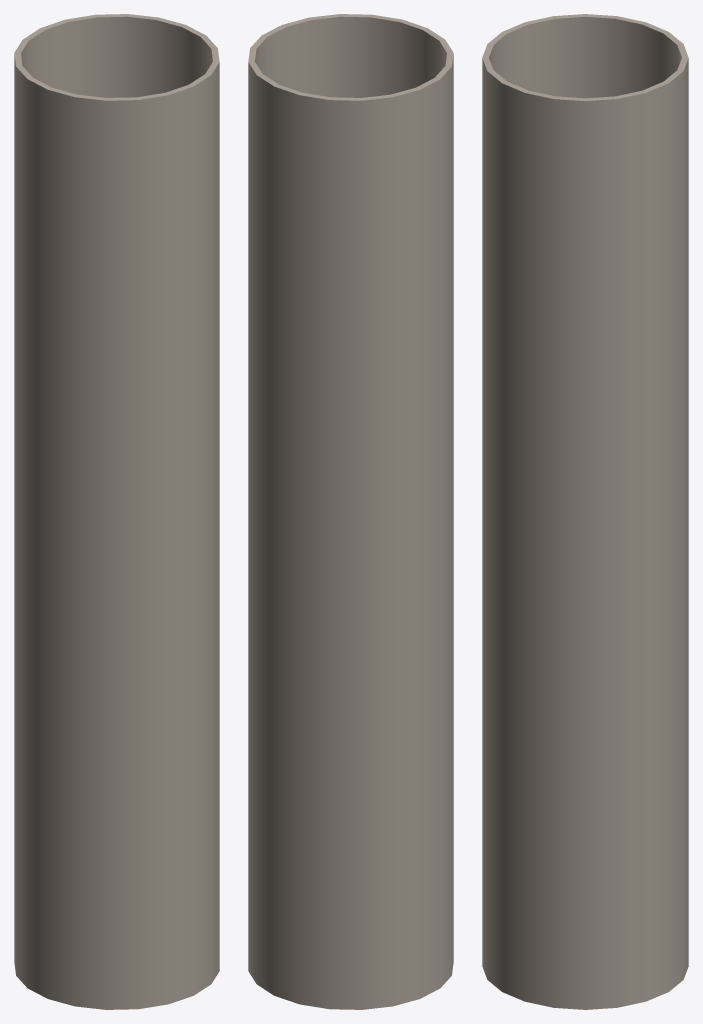
The model's file is Empty_Roll.fbx.
The picture shows the model from 3 angles, left to right: view 1: azimuth 30°, elevation 25°; view 2: azimuth 150°, elevation 25°; view 3: azimuth 270°, elevation 25°; orthographic projection.
Parts seen in each view (by area): view 1: Empty_Roll; view 2: Empty_Roll; view 3: Empty_Roll.
Part boxes in pixels (x1,y1,x2,y2): Empty_Roll: (14, 14, 219, 1009); Empty_Roll: (248, 14, 453, 1009); Empty_Roll: (482, 14, 688, 1009).
Size of the model in its own units: 1.58 by 7.68 by 1.58.
